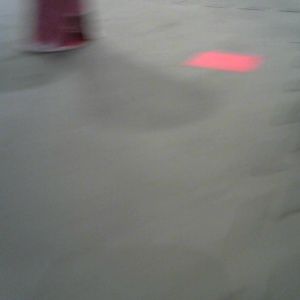middle: (14, 1, 94, 52)
